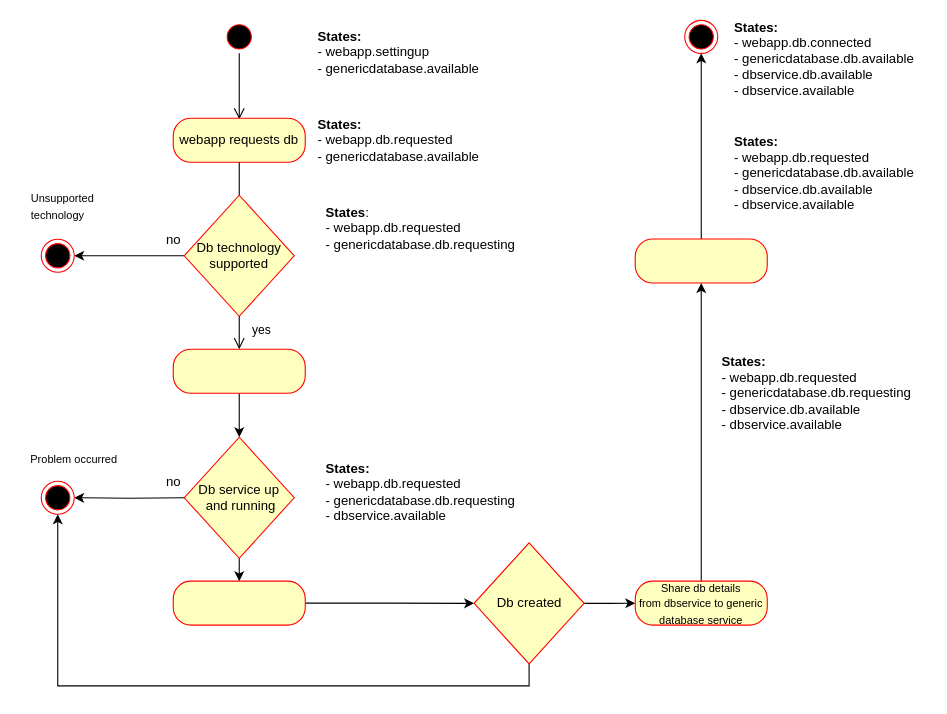
Some shapes in this 947 by 714 pixel diagram are drawn without their labels. Here are the shapes that lost their labels. From the top down, the centre of each, then its label:
pixel 700 260: Share db details from generic database service to webapp
pixel 238 370: Ensures availability of db service/setups the service
pixel 238 602: Request database
